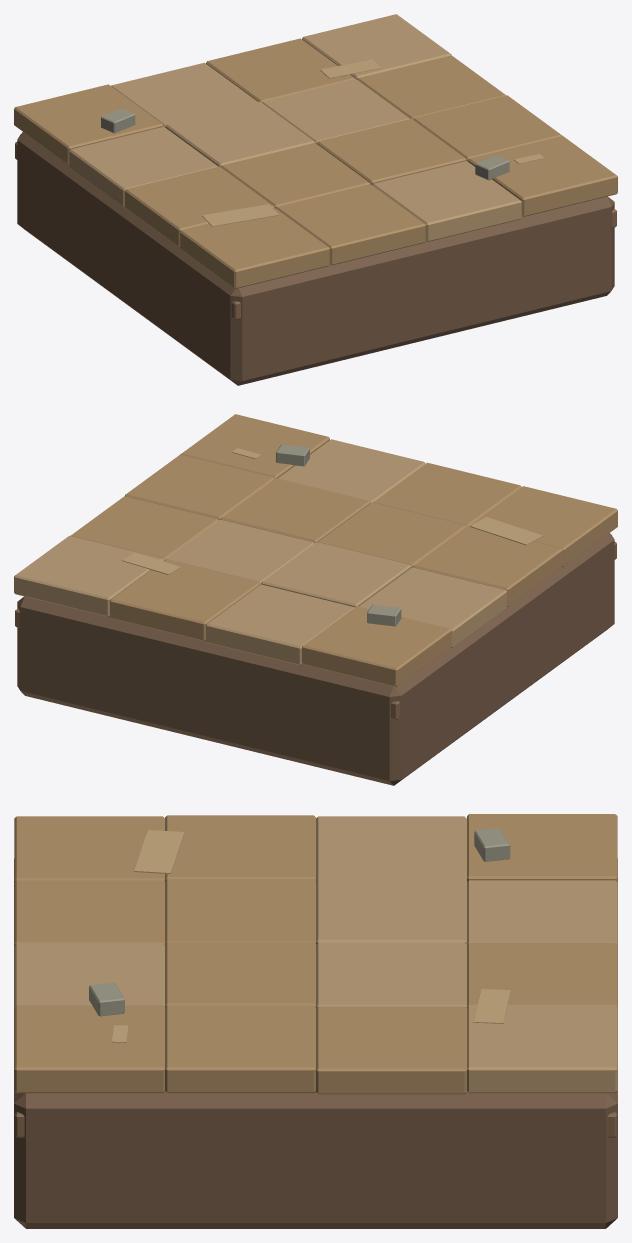
The model's file is warm_ground_1.glb.
3 renders of one model, top to bottom at view 1: azimuth 30°, elevation 25°; view 2: azimuth 150°, elevation 25°; view 3: azimuth 270°, elevation 25°, orthographic. The views are drawn at different scales.
Parts seen in each view (by area): view 1: ground_1_sample_earth, ground_1_sample_soil, ground_1_sample_dust, ground_1_sample_sand, ground_1_sample_stone; view 2: ground_1_sample_soil, ground_1_sample_earth, ground_1_sample_dust, ground_1_sample_sand, ground_1_sample_stone; view 3: ground_1_sample_earth, ground_1_sample_soil, ground_1_sample_dust, ground_1_sample_sand, ground_1_sample_stone.
Part boxes in pixels (x1,y1,x2,y2): ground_1_sample_earth: (14, 38, 617, 288); ground_1_sample_soil: (17, 132, 614, 385); ground_1_sample_dust: (69, 14, 521, 241); ground_1_sample_sand: (202, 59, 544, 226); ground_1_sample_stone: (101, 108, 509, 180); ground_1_sample_soil: (17, 533, 614, 785); ground_1_sample_earth: (70, 414, 617, 686); ground_1_sample_dust: (14, 439, 506, 665); ground_1_sample_sand: (121, 448, 542, 574); ground_1_sample_stone: (276, 444, 401, 626); ground_1_sample_earth: (14, 814, 617, 1094); ground_1_sample_soil: (14, 858, 617, 1228); ground_1_sample_dust: (14, 816, 617, 1093); ground_1_sample_sand: (111, 830, 510, 1042); ground_1_sample_stone: (89, 828, 510, 1016).
Size of the model in its own units: 0.925 by 0.3055 by 0.925.
